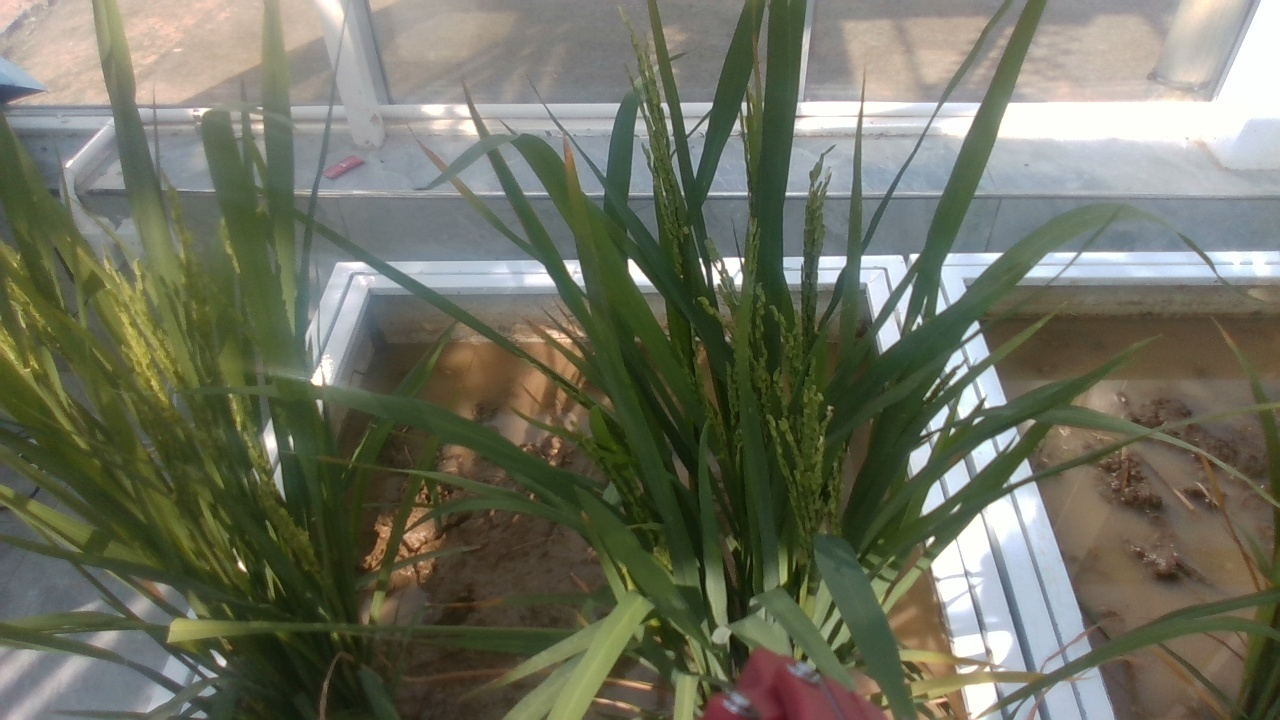panicle: (606, 6, 697, 248), (767, 401, 839, 553), (794, 139, 846, 294), (771, 310, 814, 387), (714, 241, 751, 314)
